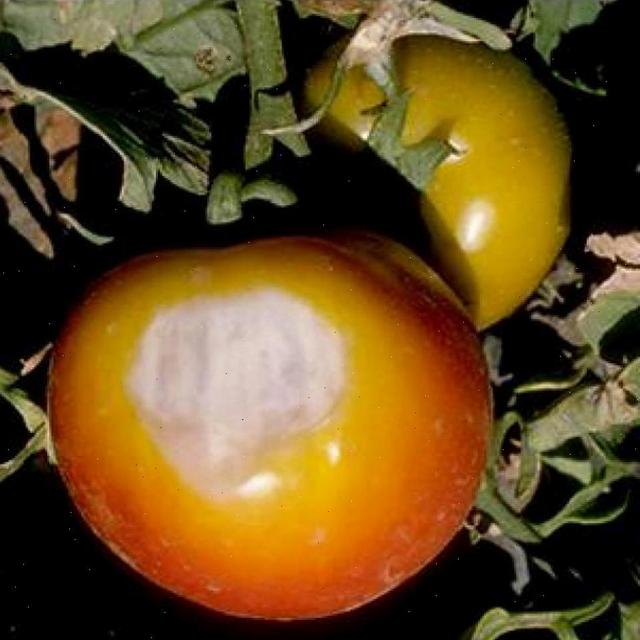Sunscald Fruit: (69, 184, 254, 338)
